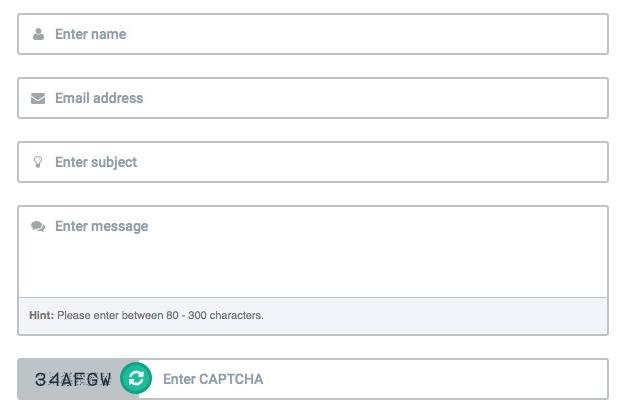field: (13, 203, 612, 336), (14, 140, 612, 187), (14, 75, 610, 122), (15, 11, 610, 58), (133, 356, 611, 401)
